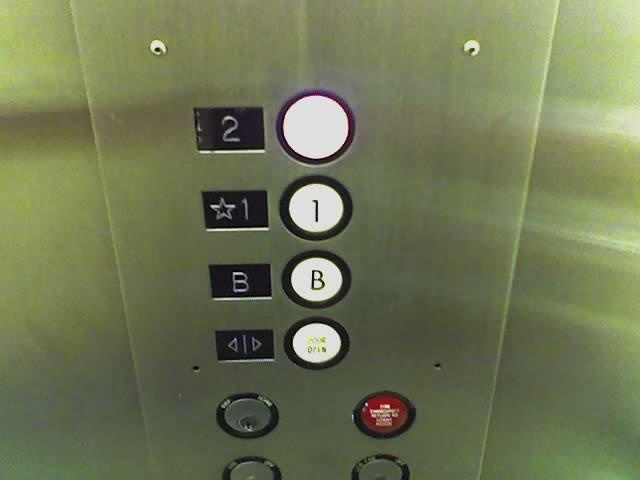1: (276, 172, 356, 244)
2: (189, 102, 270, 157)
B: (280, 247, 354, 308), (205, 261, 276, 301)
empty: (275, 87, 358, 168)
keyhole: (215, 389, 280, 440)
open: (211, 327, 279, 363)
s1: (198, 188, 273, 232)
text: (283, 314, 350, 370), (352, 387, 418, 441)
